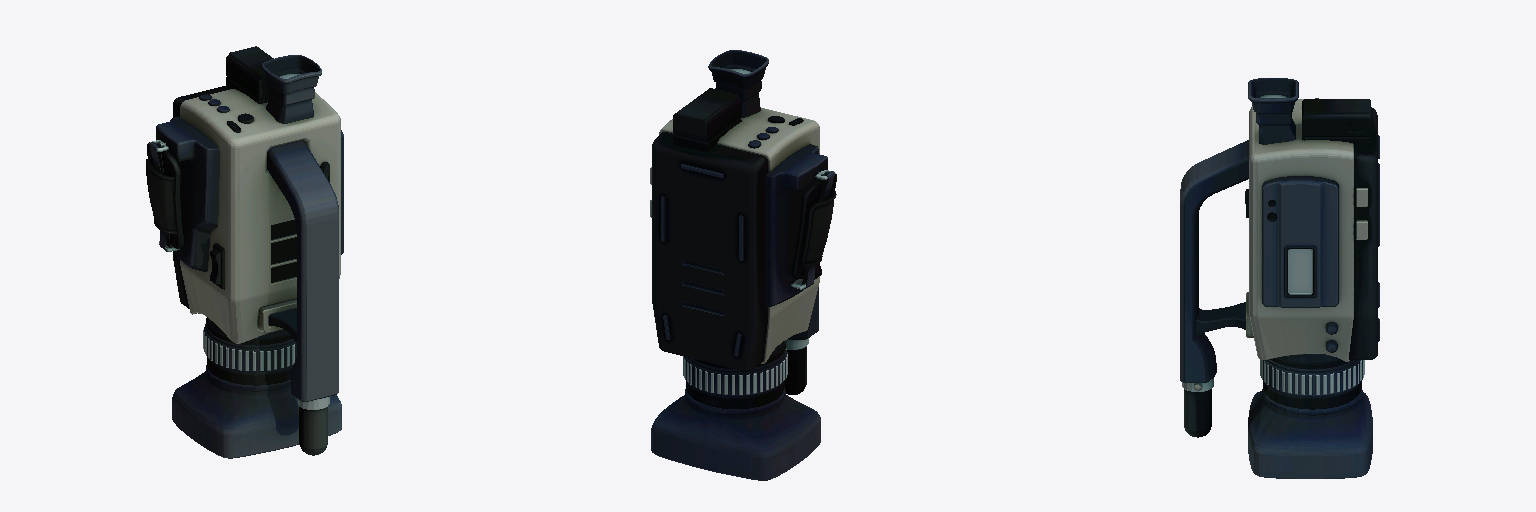
3 renders of one model, left to right at view 1: azimuth 30°, elevation 25°; view 2: azimuth 150°, elevation 25°; view 3: azimuth 270°, elevation 25°, orthographic.
Parts seen in each view (by area): view 1: Object.1; view 2: Object.1; view 3: Object.1.
Part boxes in pixels (bbox=[...]): Object.1: bbox=[146, 46, 343, 458]; Object.1: bbox=[650, 50, 836, 480]; Object.1: bbox=[1180, 78, 1379, 478].
Bounding box in the file's own units: 0.4956 × 1.05 × 0.512.
1 materials, 1 textured.